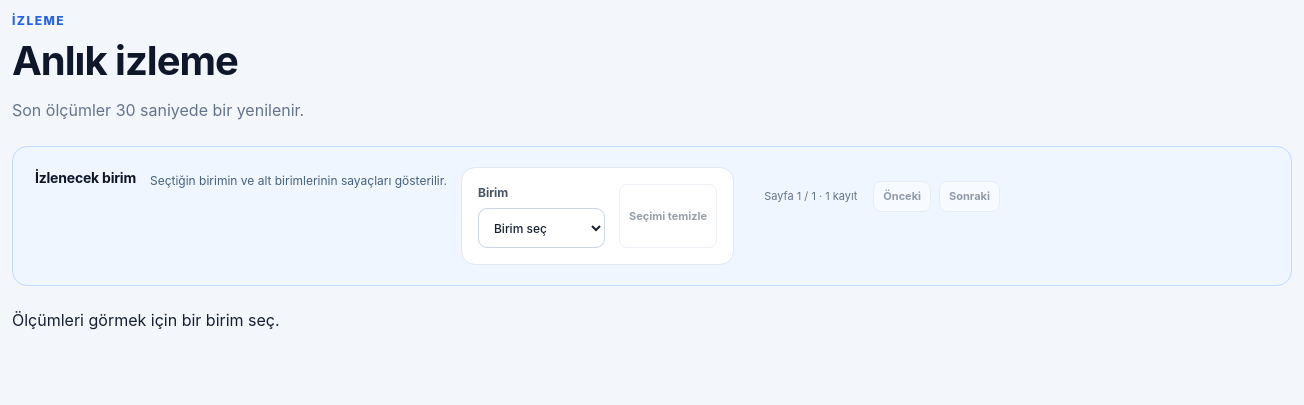
Test: F3-T6 anlık izleme › istek hatasını sayaç haberleşme durumundan ayrı gösterir
Select "TM-1 · Merkez" in the dropdown at (542, 228), box [478, 208, 605, 248]
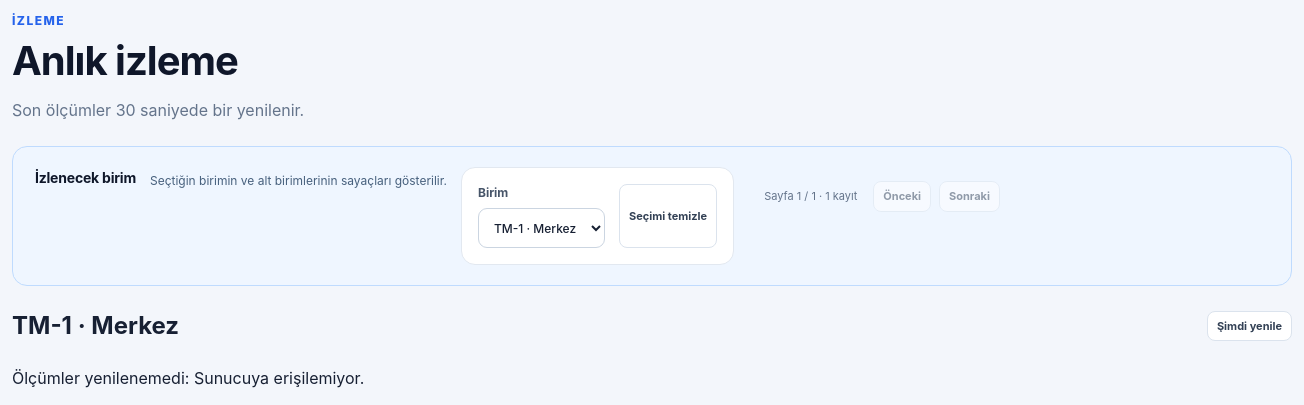
Expected: the message shows "Sunucuya erişilemiyor", [194, 368, 360, 388]
